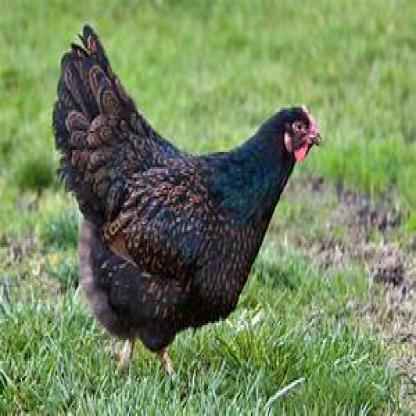chicken: (52, 23, 322, 376)
